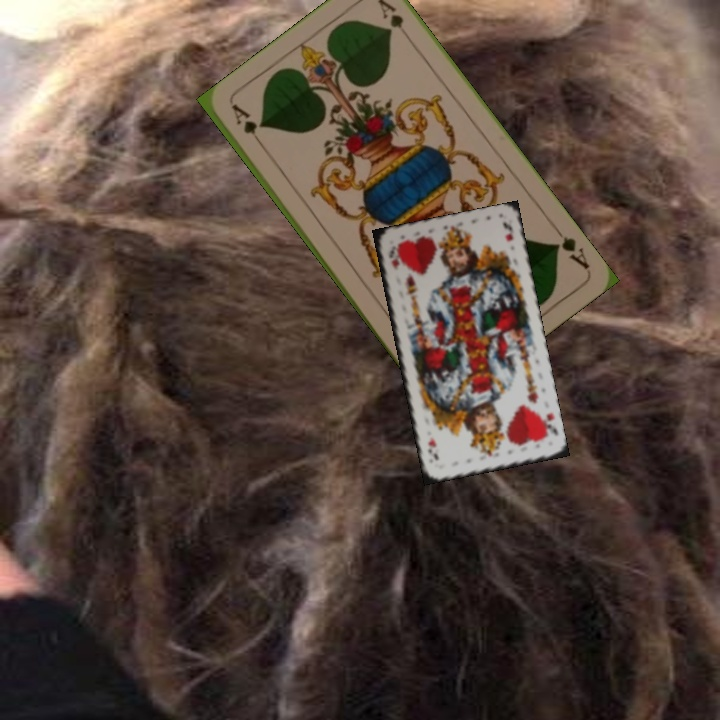GA: (549, 222, 593, 272), (228, 100, 269, 153)
HK: (536, 409, 561, 440), (385, 242, 402, 272)
